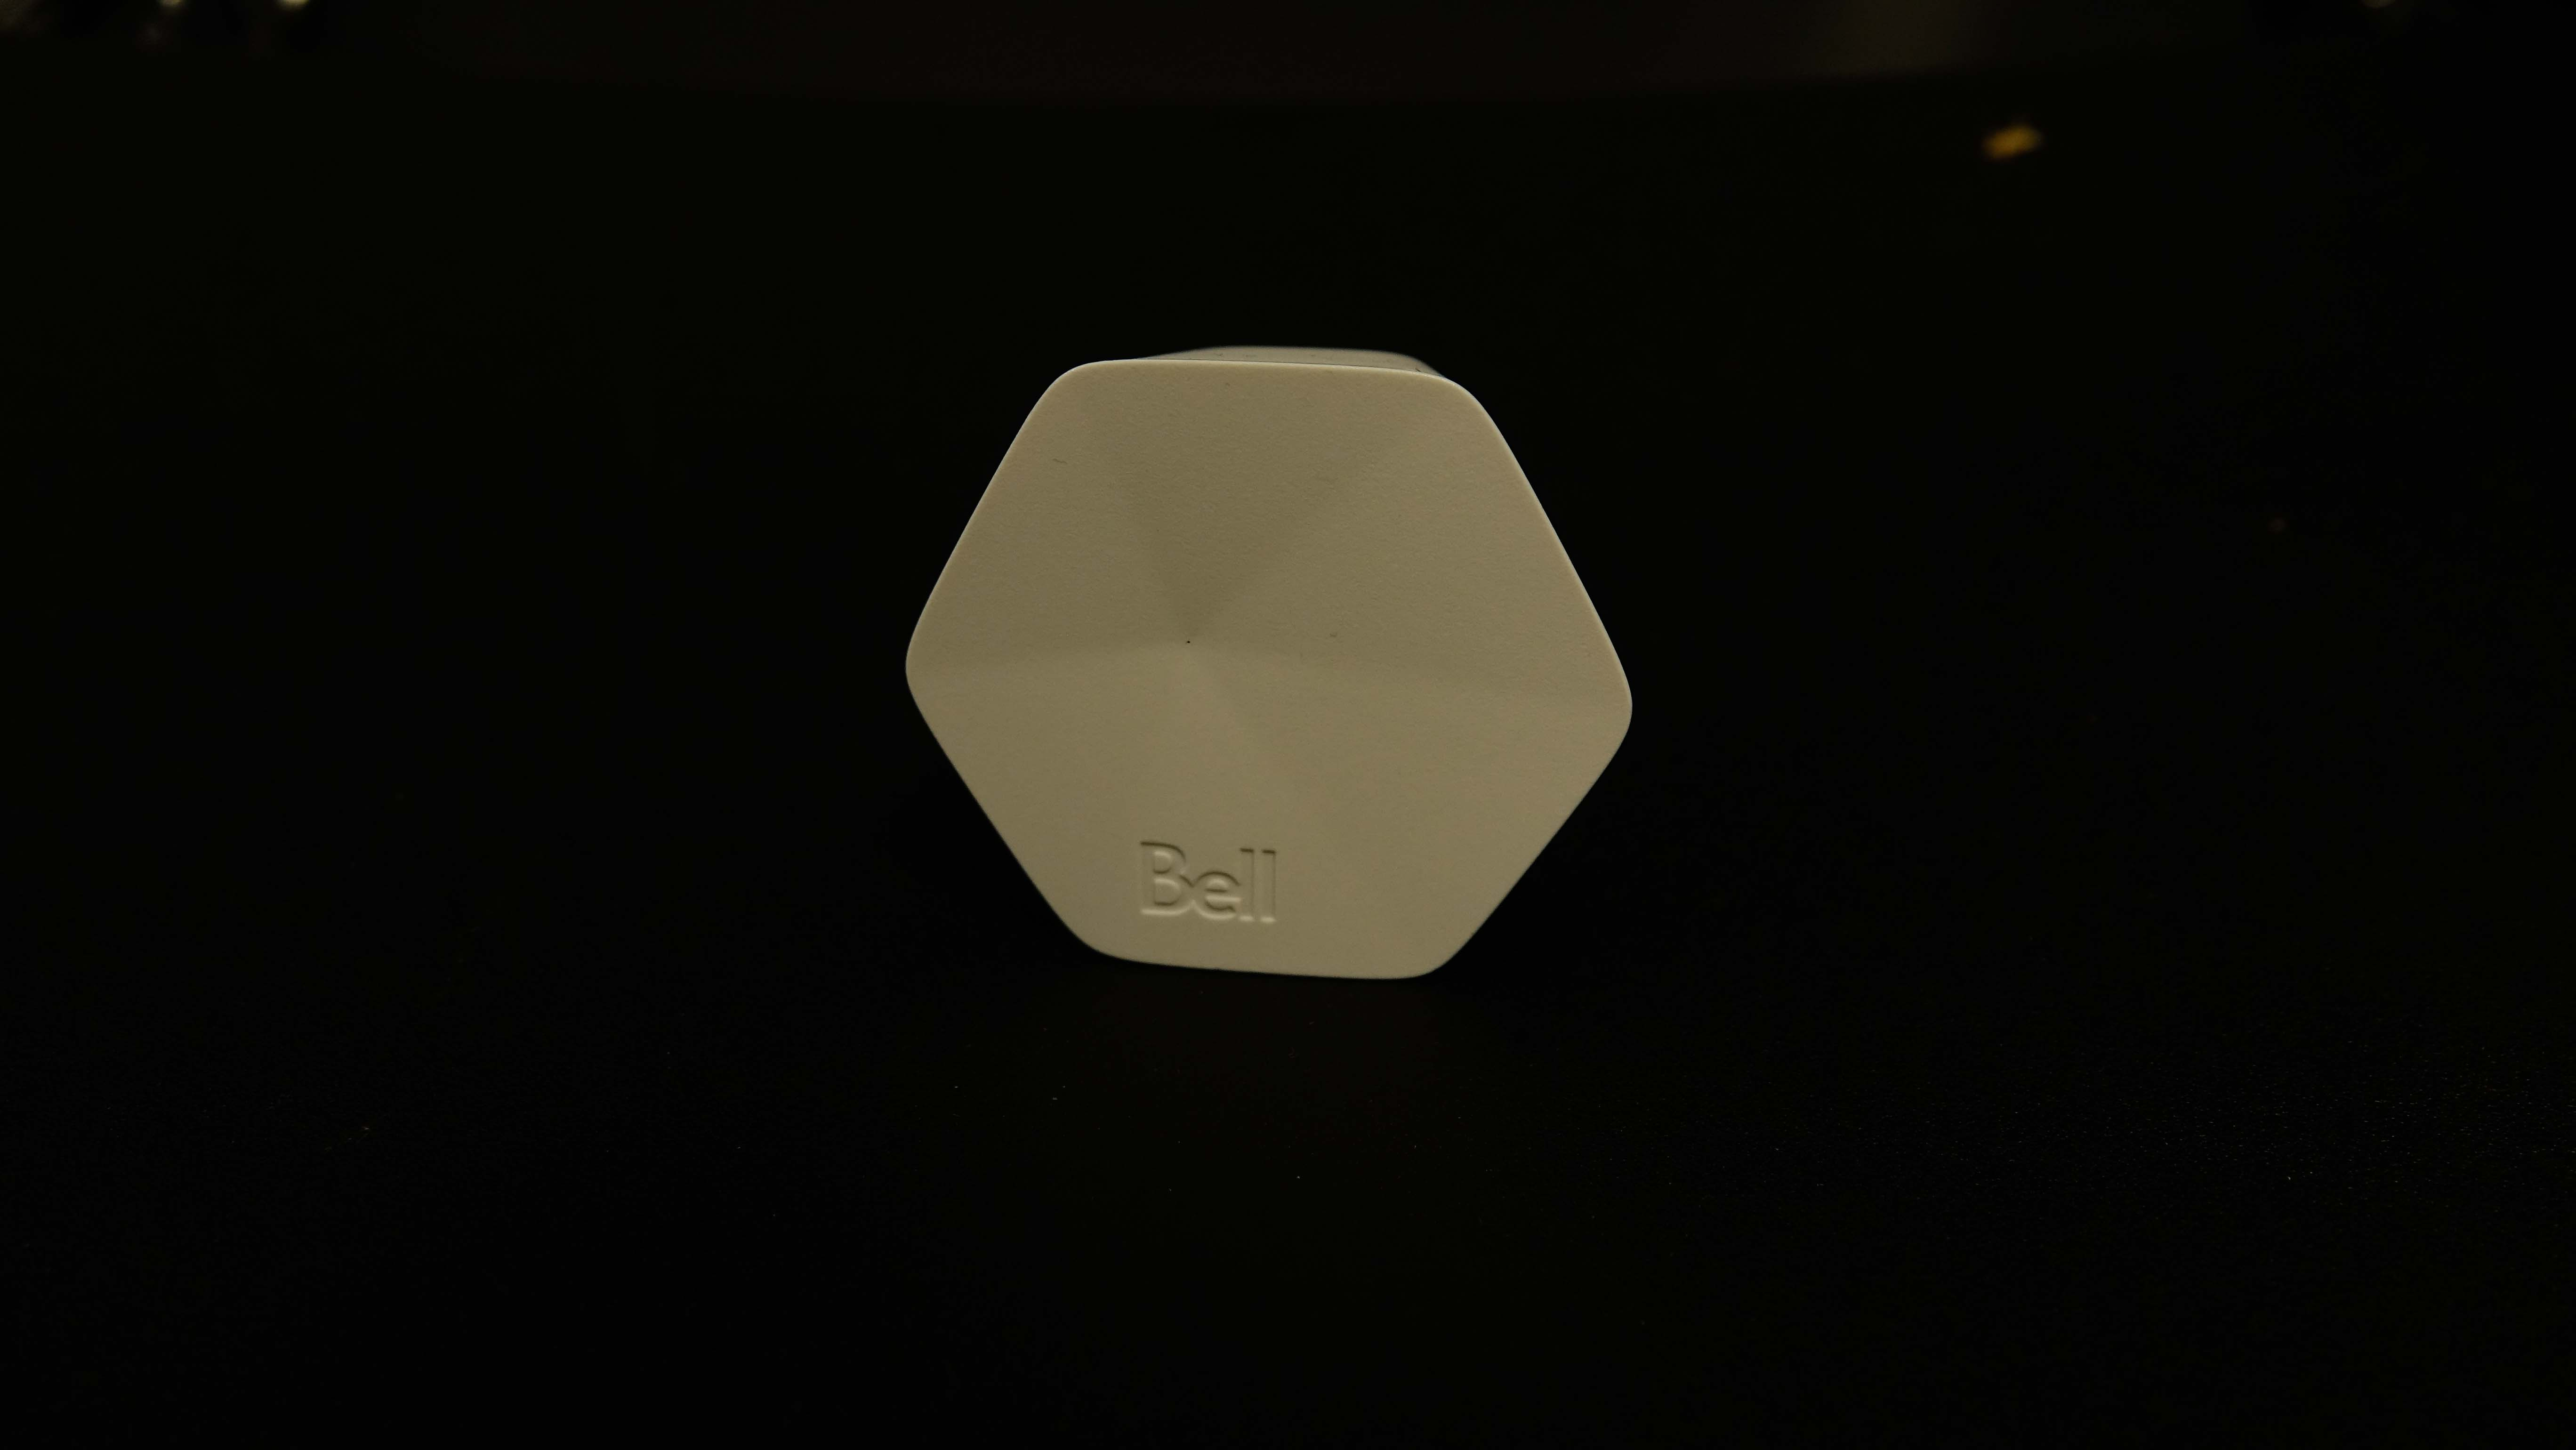pod: (870, 332, 1645, 999)
